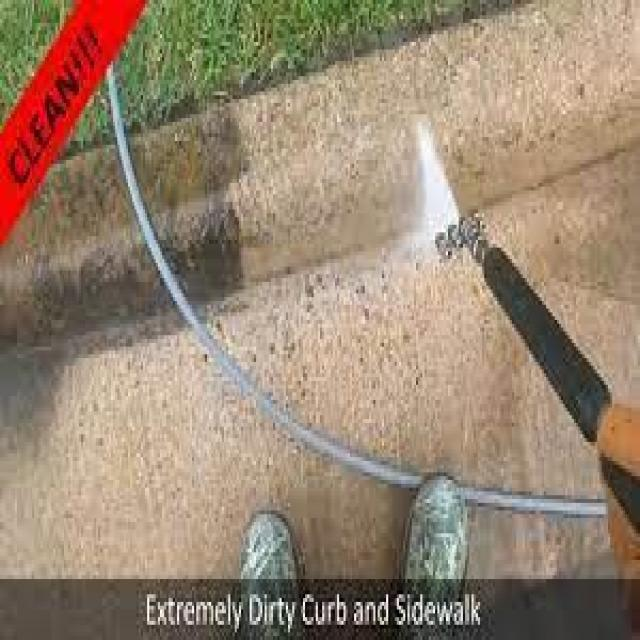curb: (217, 8, 636, 287), (2, 111, 240, 351)
